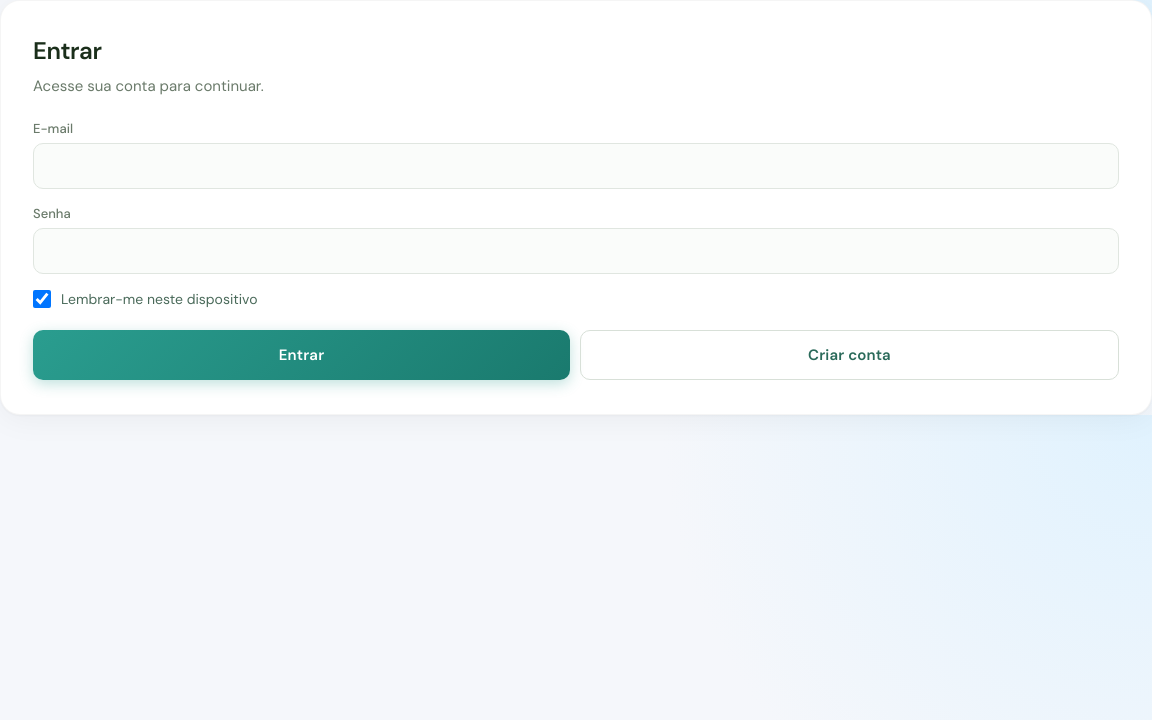
Test case: LoginForm › valida email no login
In the field labelled "E-mail": (576, 166) [33,143,1119,189], type "invalido"
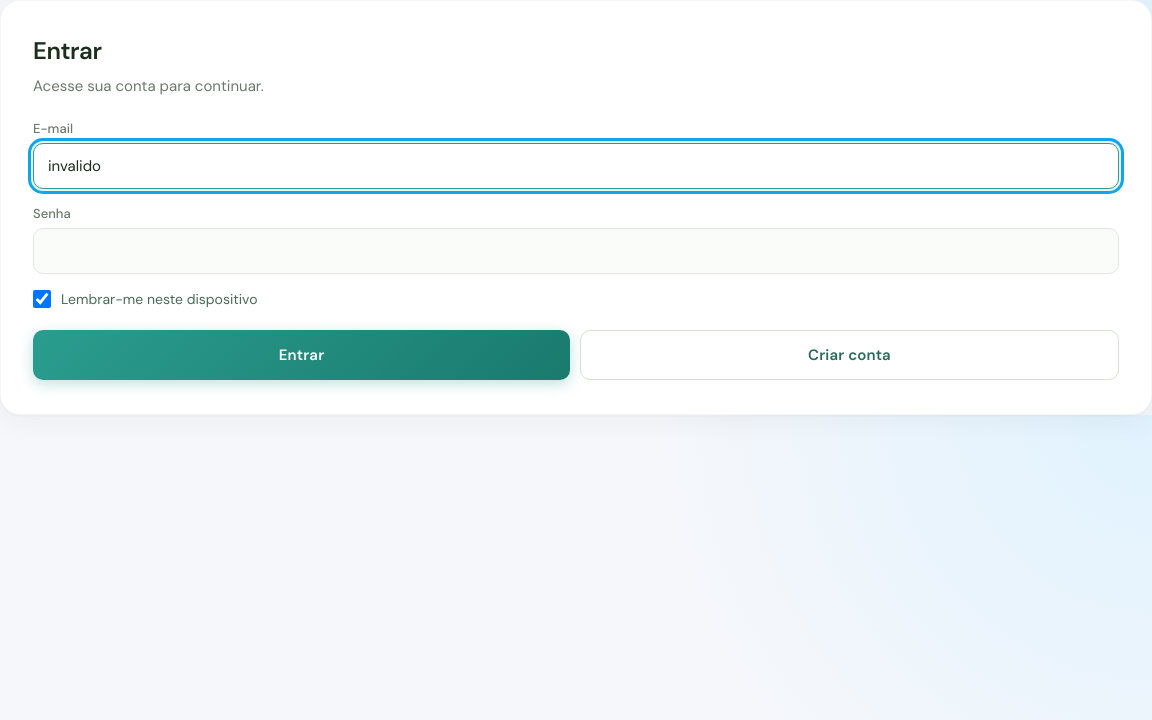
In the password field labelled "Senha": (576, 251) [33,228,1119,274], type "123456"
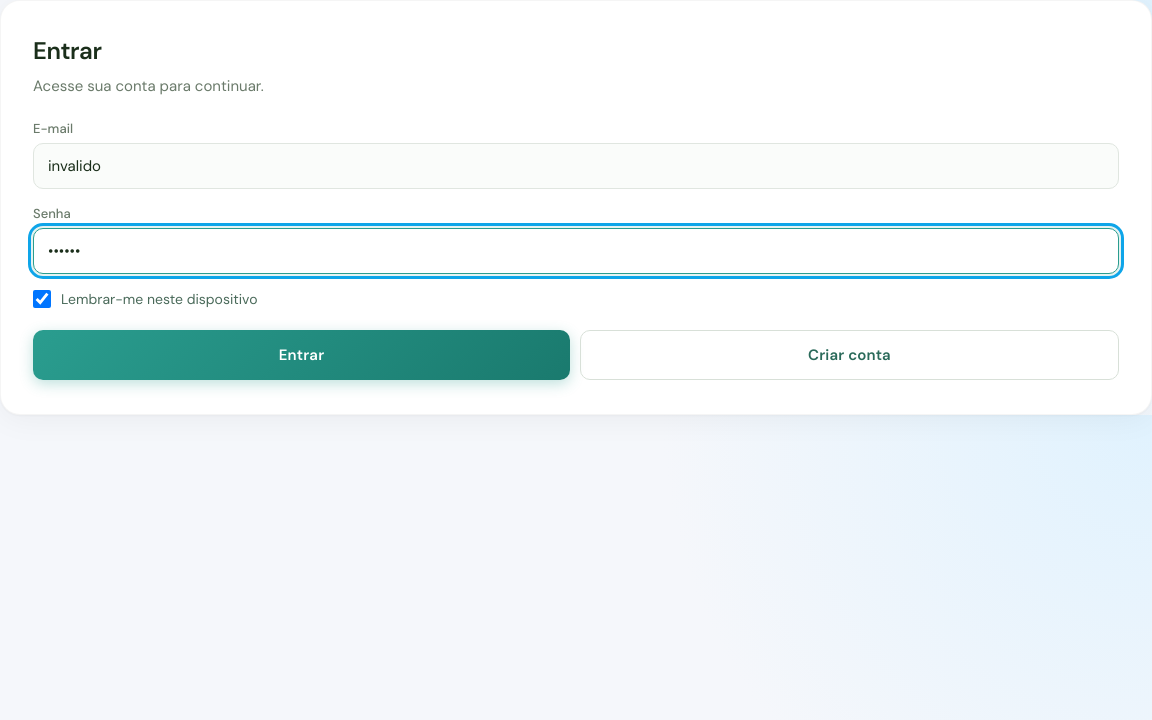
Click the button "Entrar": (302, 355) [33,330,570,380]
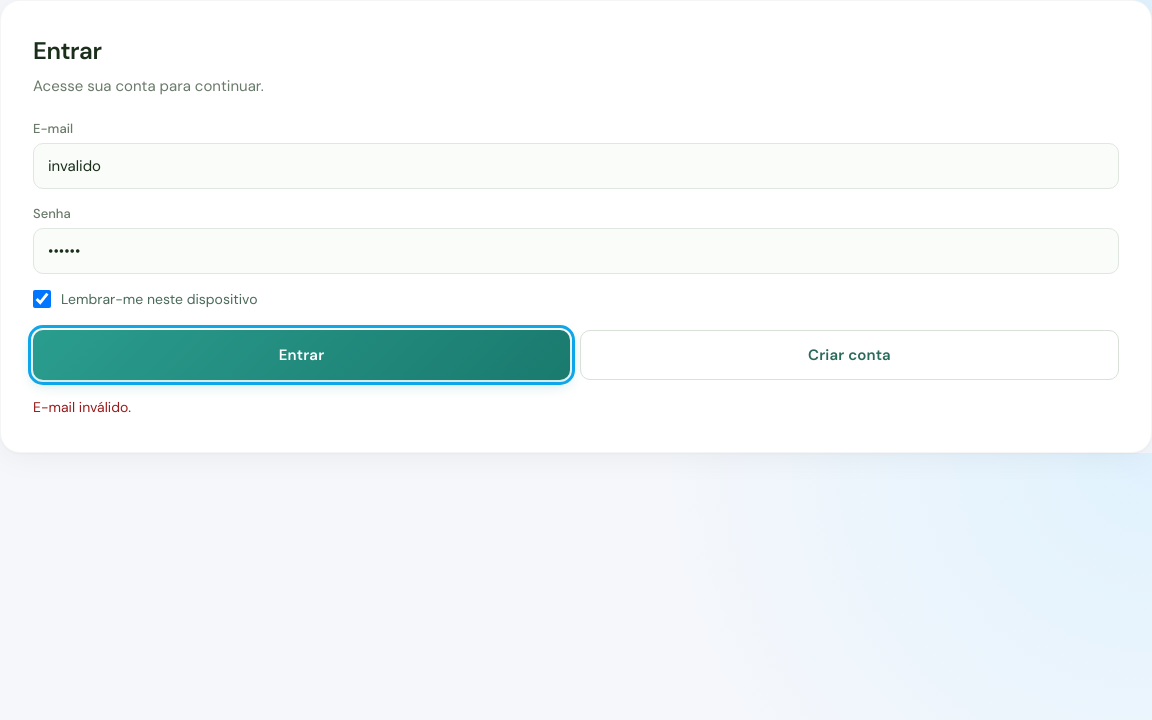
Expected: the text "E-mail inválido." is shown, [33,398,131,416]
